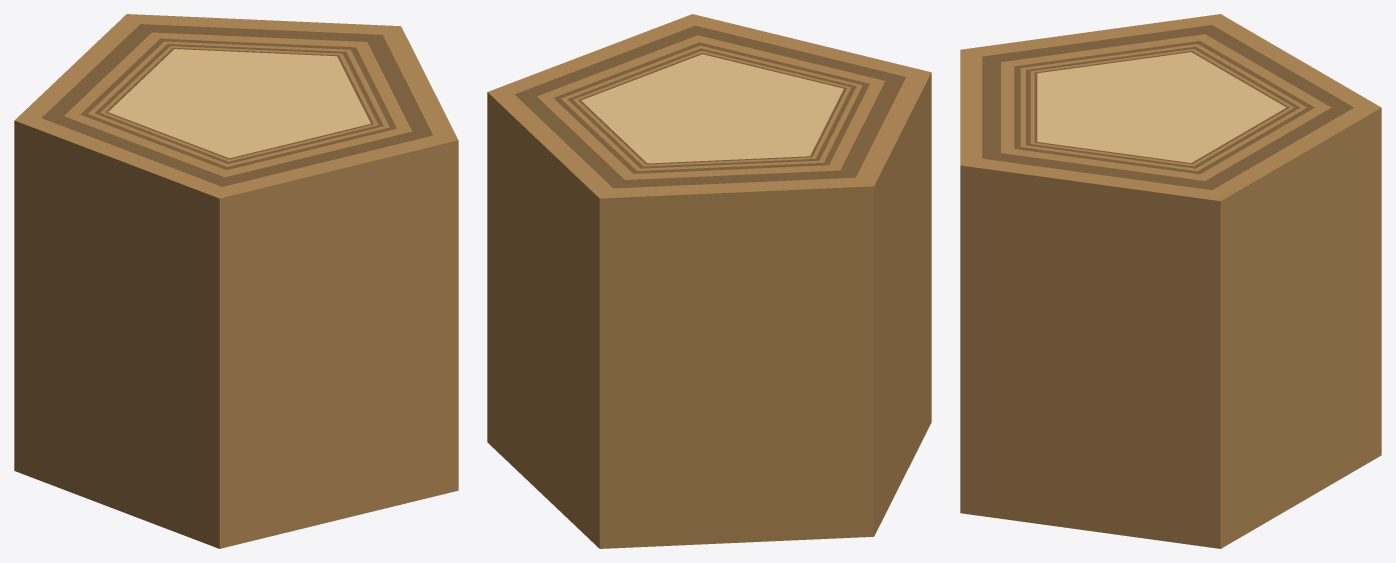
Rendered from tronc_arbre.glb.
The picture shows the model from 3 angles, left to right: view 1: azimuth 30°, elevation 25°; view 2: azimuth 150°, elevation 25°; view 3: azimuth 270°, elevation 25°; orthographic projection.
Parts seen in each view (by area): view 1: tronc_arbre; view 2: tronc_arbre; view 3: tronc_arbre.
Boxes of the visible parts, bbox=[...] form: tronc_arbre: bbox=[14, 14, 458, 548]; tronc_arbre: bbox=[487, 14, 931, 548]; tronc_arbre: bbox=[960, 14, 1381, 548].
Bounding box in the file's own units: 0.97 × 0.8401 × 0.9226.
